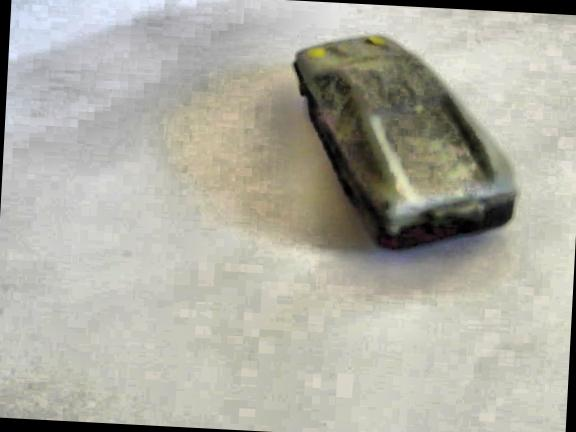normal_car: (274, 26, 529, 263)
